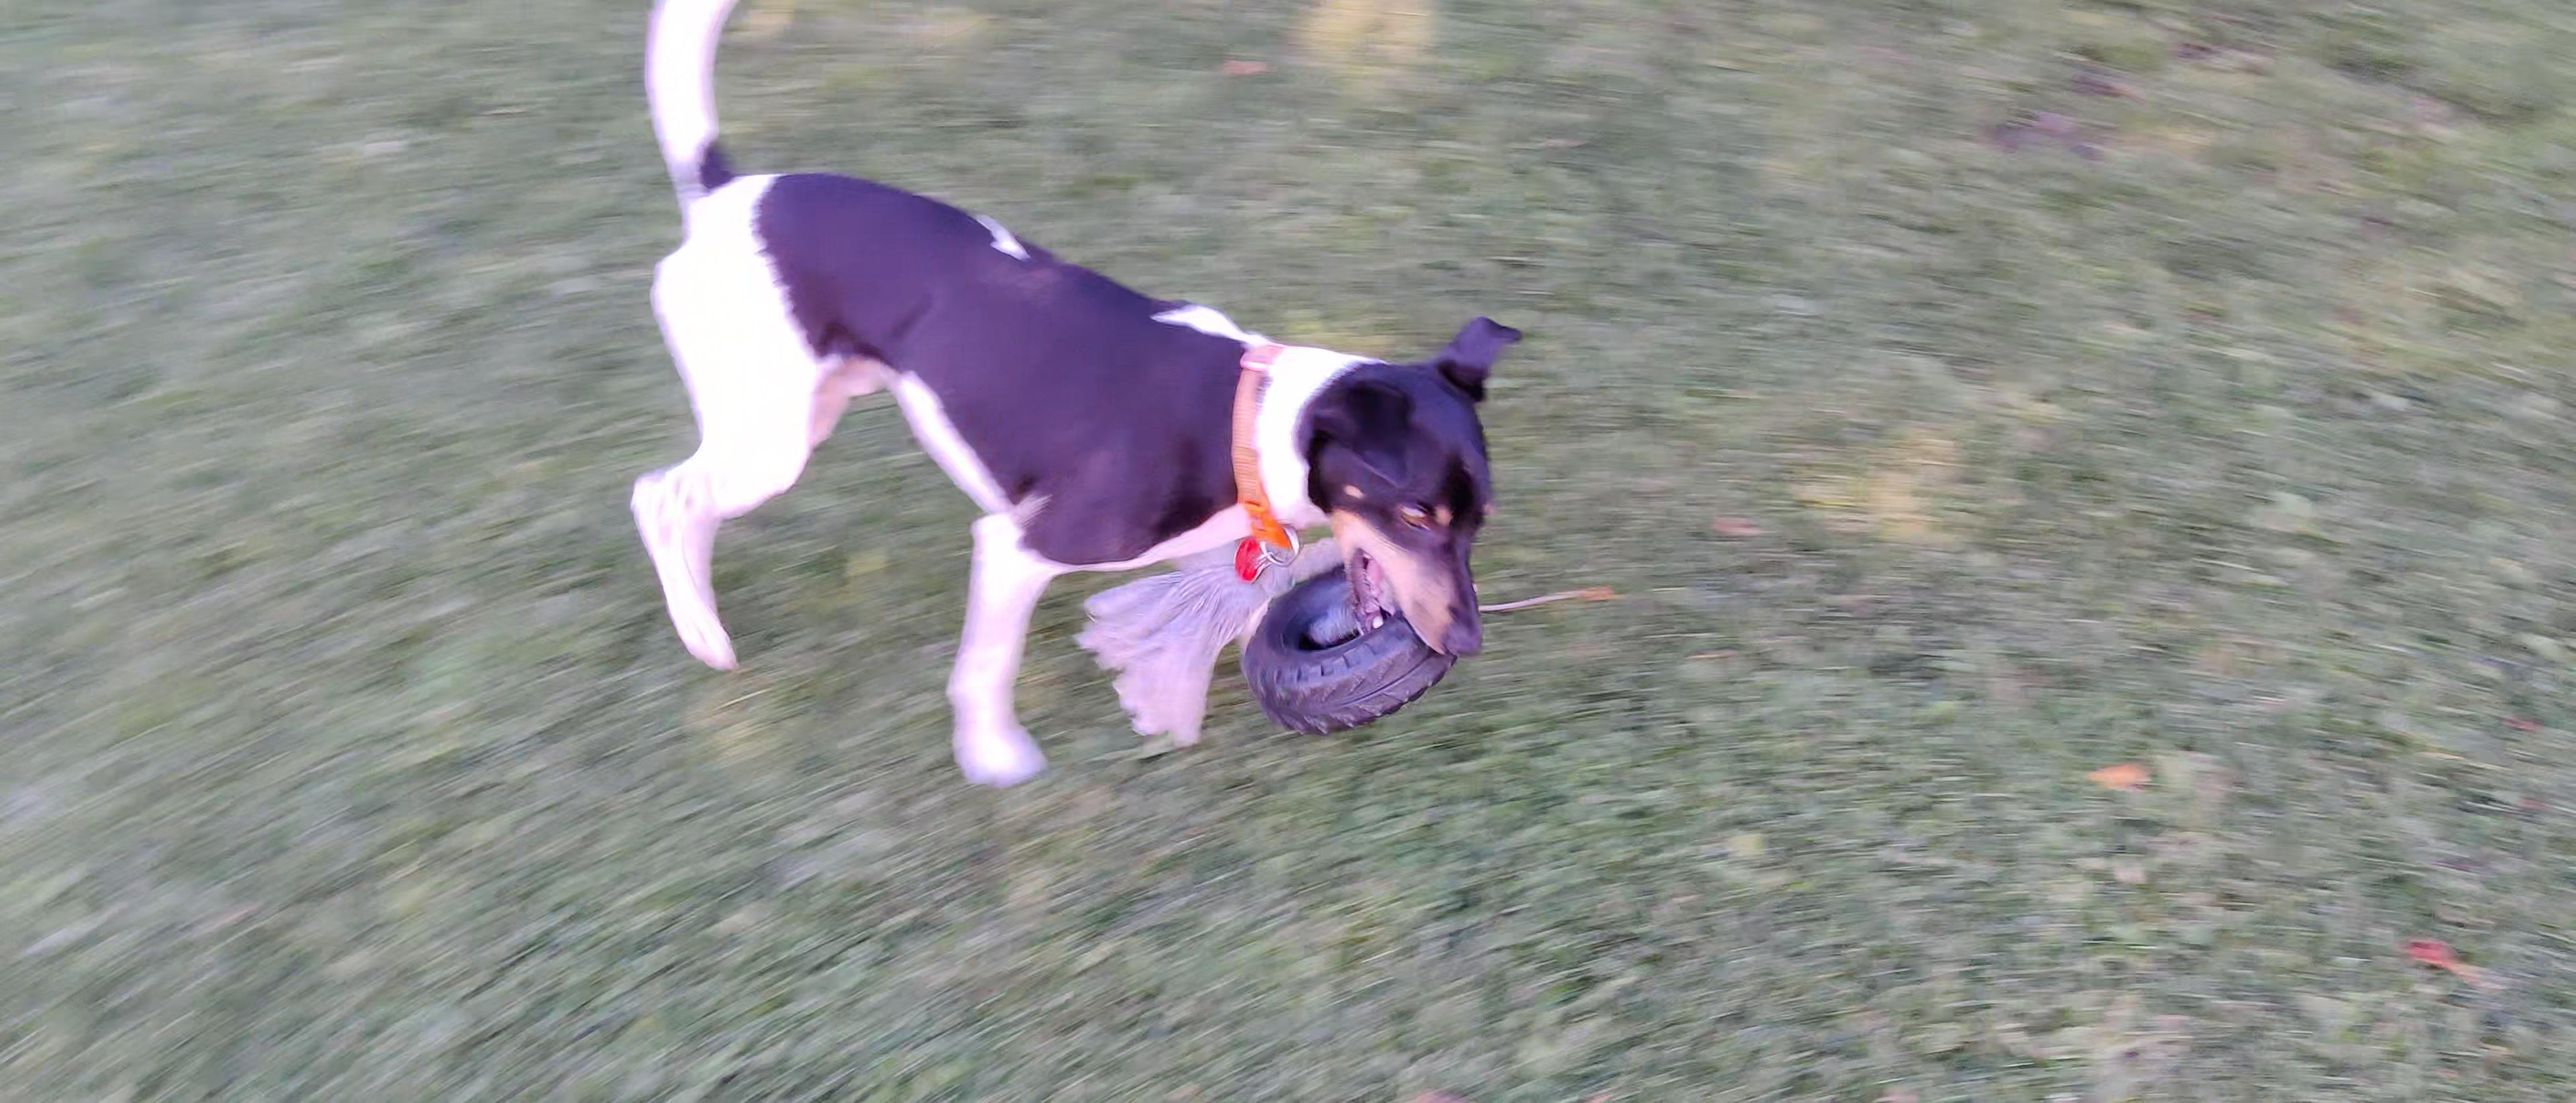Dog: (588, 0, 1529, 789)
